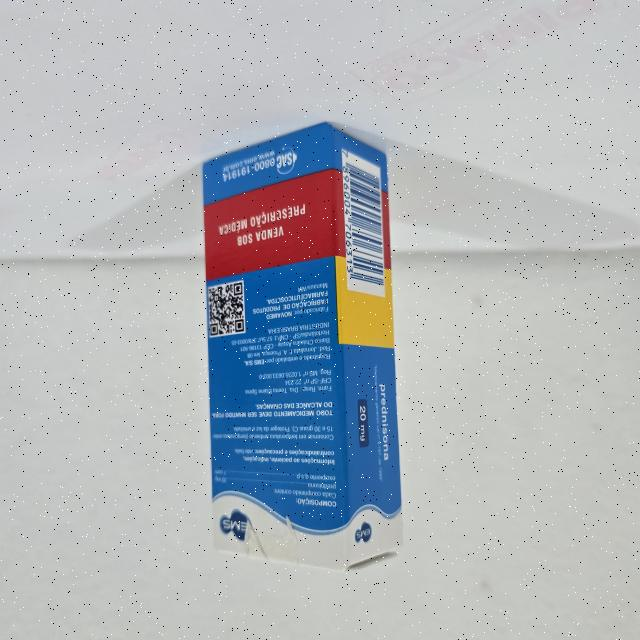prednisona: (196, 113, 408, 574)
